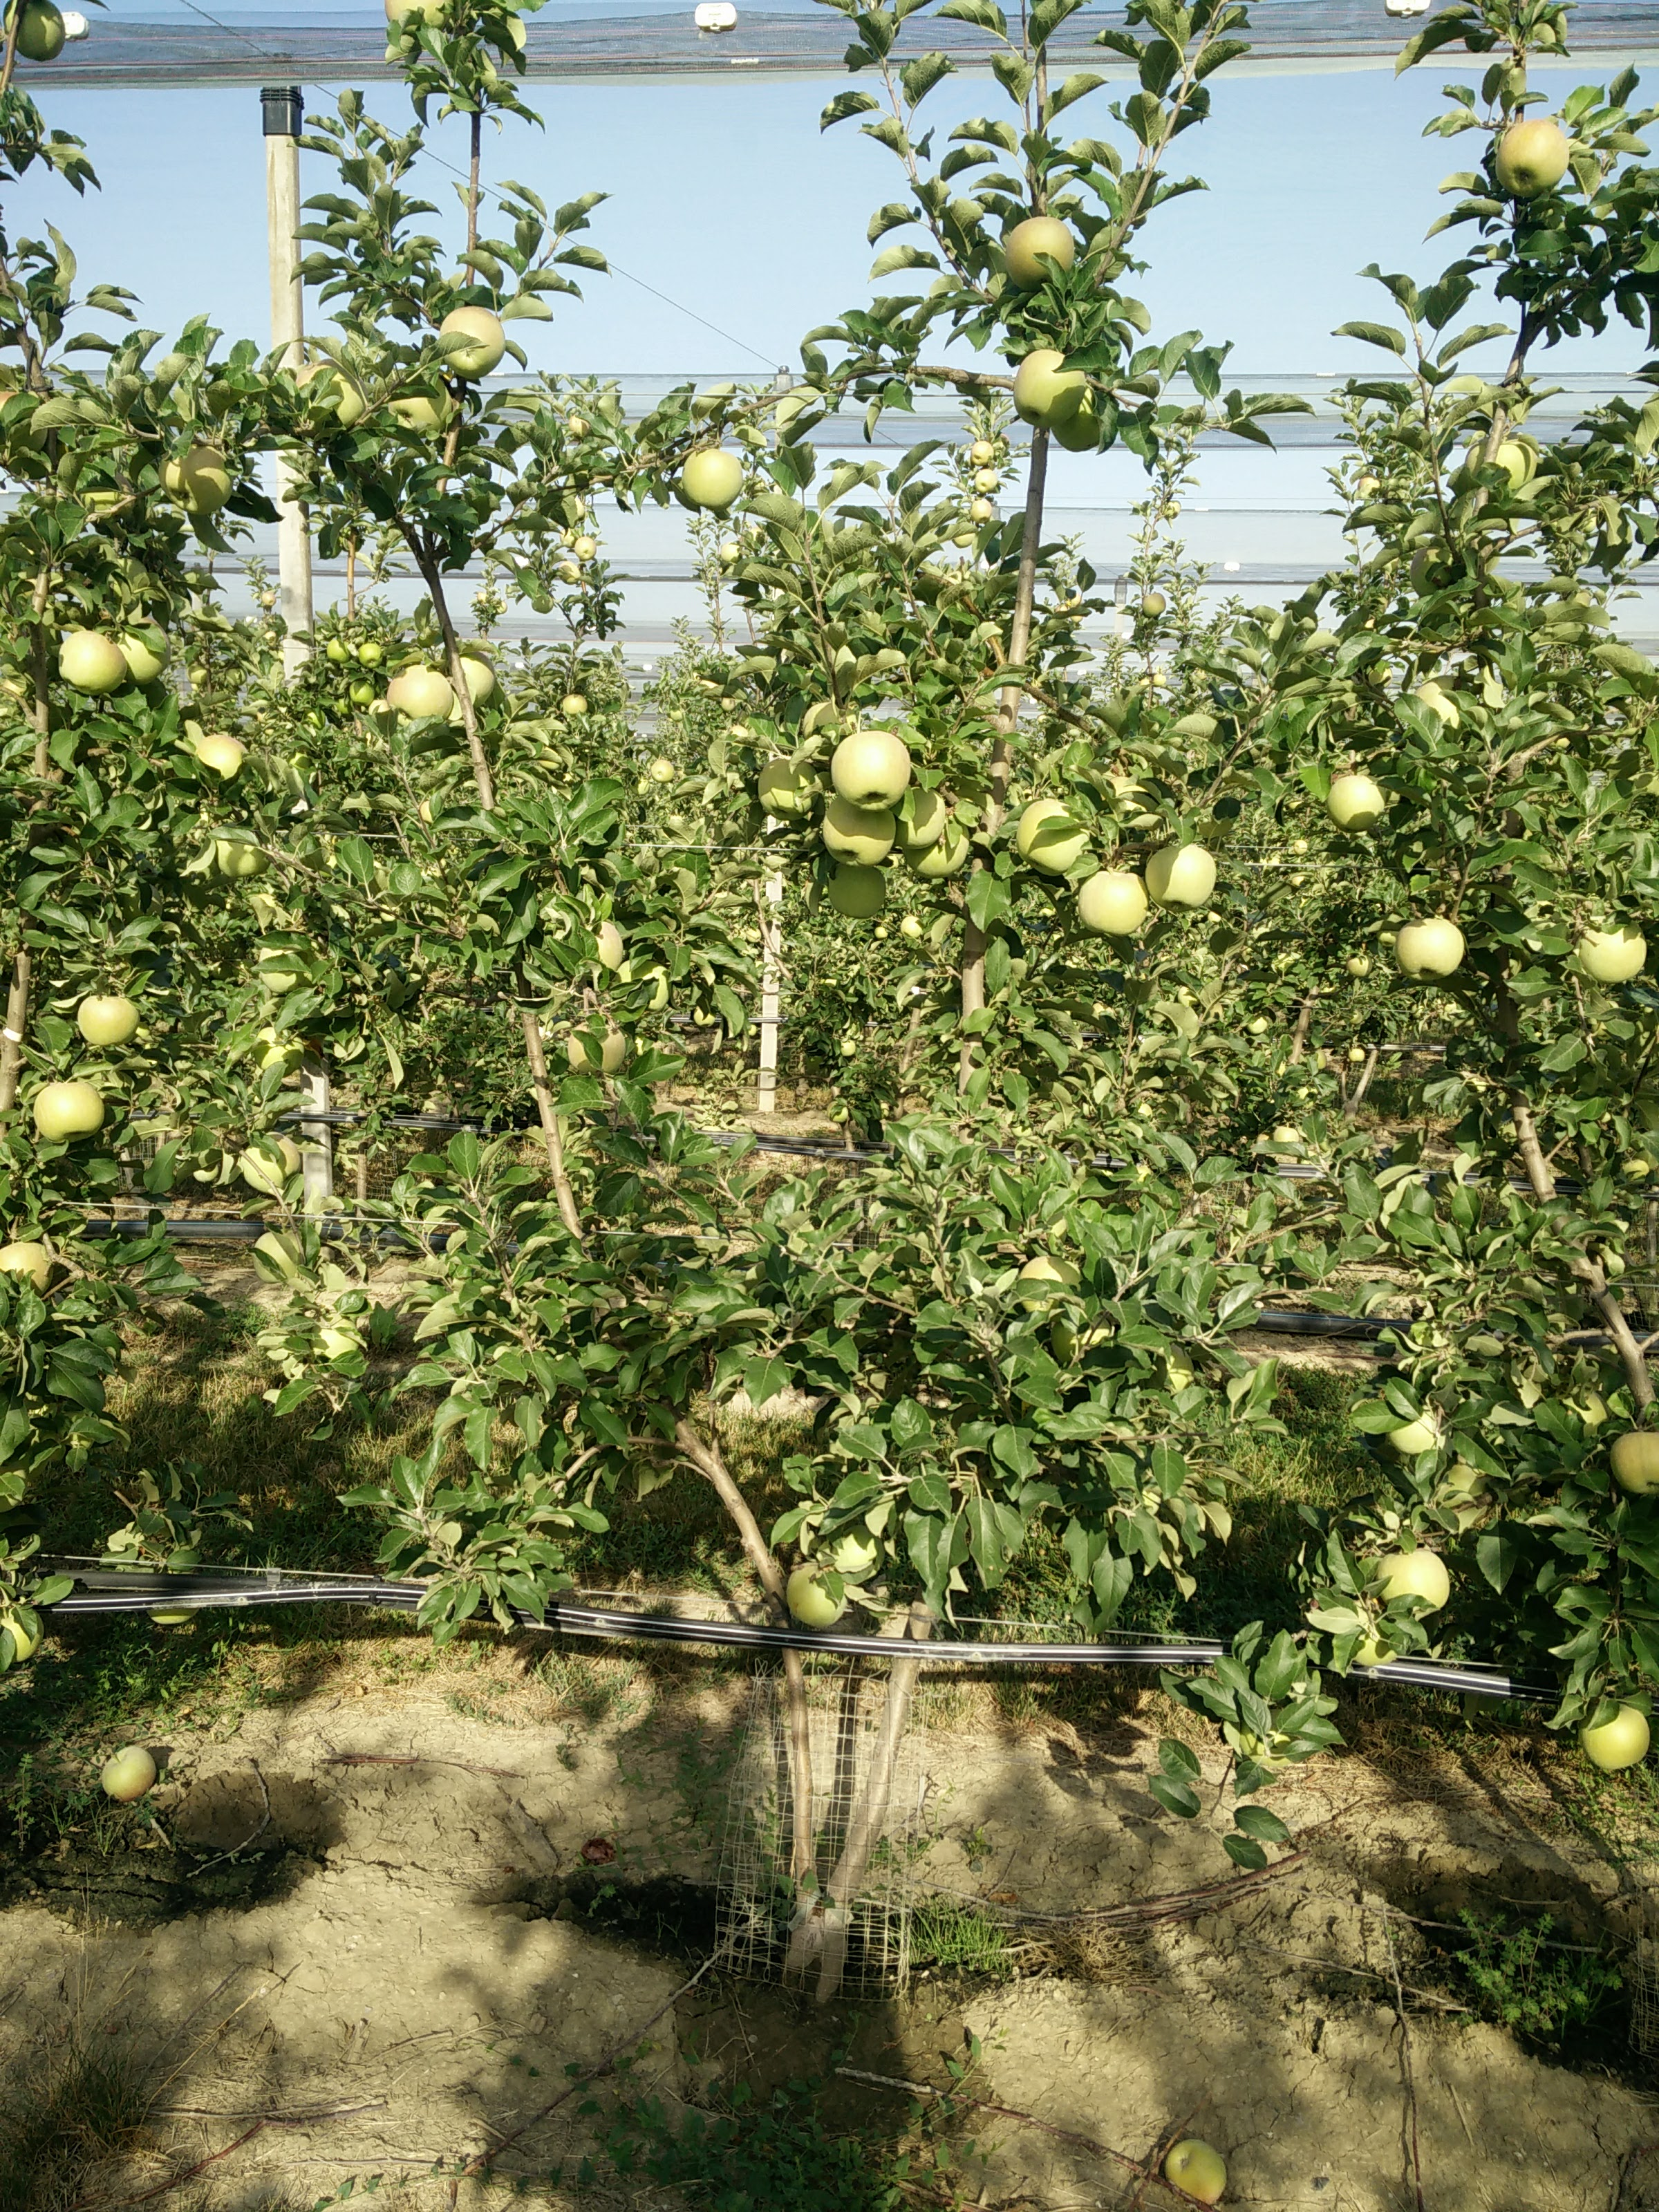apple: (1488, 115, 1577, 203), (1366, 1545, 1459, 1622), (829, 729, 913, 807), (779, 1549, 857, 1633), (999, 216, 1080, 294), (1018, 796, 1096, 877), (55, 624, 132, 704), (1009, 348, 1087, 426), (1145, 841, 1222, 918), (1390, 915, 1468, 988), (816, 796, 897, 868), (30, 1076, 109, 1147), (1571, 916, 1651, 985), (386, 656, 460, 731), (1582, 1698, 1650, 1775), (753, 756, 829, 824), (1078, 871, 1151, 940), (442, 307, 515, 376), (677, 441, 747, 512), (74, 983, 143, 1048), (1322, 771, 1389, 836)
